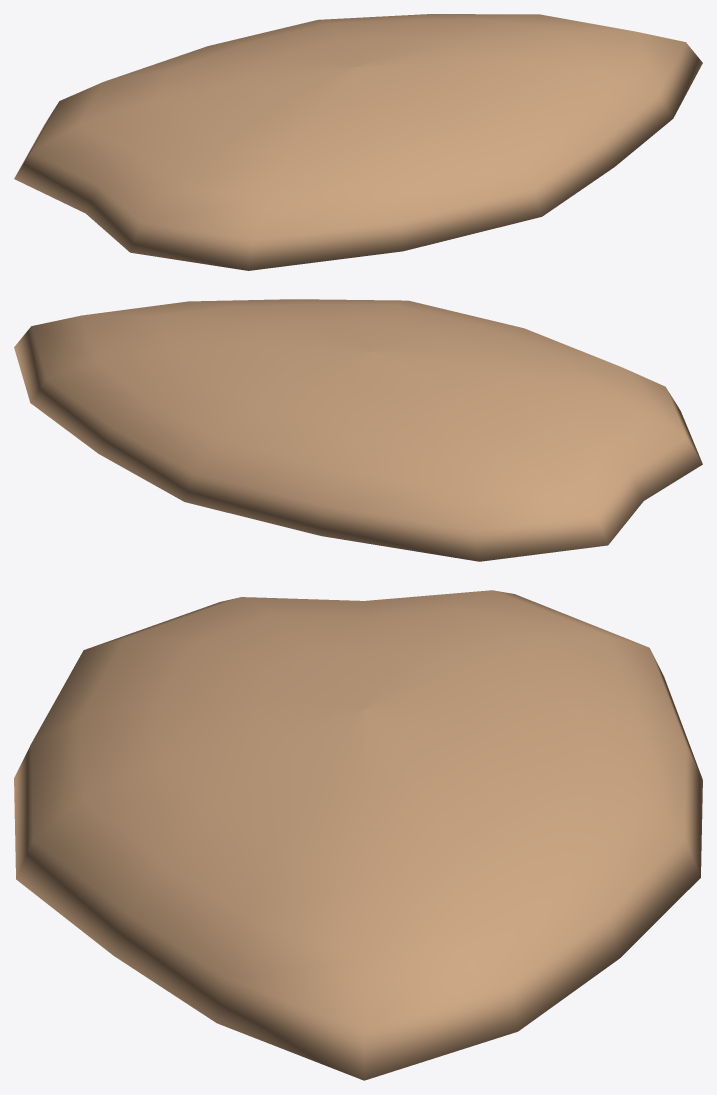
The model's file is b1_sand.glb.
The picture shows the model from 3 angles, top to bottom: view 1: azimuth 30°, elevation 25°; view 2: azimuth 150°, elevation 25°; view 3: azimuth 270°, elevation 25°; orthographic projection. The views are drawn at different scales.
Parts seen in each view (by area): view 1: b1_sand; view 2: b1_sand; view 3: b1_sand.
Part boxes in pixels (x1,y1,x2,y2): b1_sand: (14,14,702,270); b1_sand: (14,299,702,561); b1_sand: (14,590,702,1080).
Bounding box in the file's own units: 2.47 × 0.3 × 1.56.
